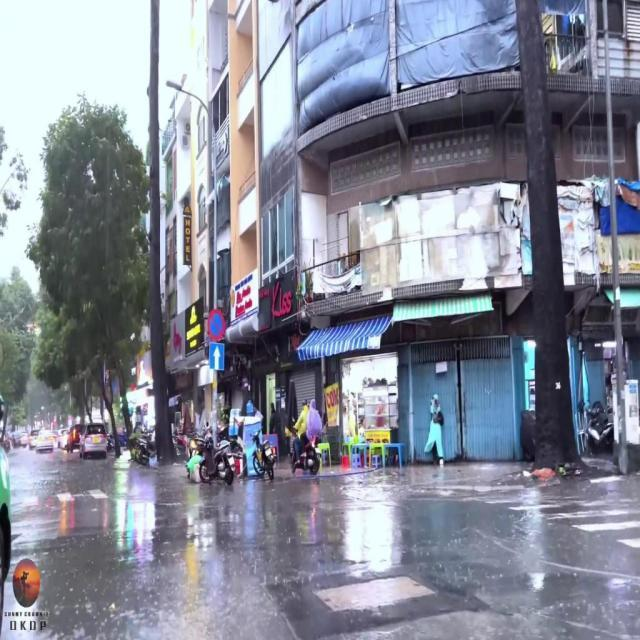131a-cam-do-xe: (207, 308, 226, 340)
407a-duong-mot-chieu: (210, 342, 224, 370)
